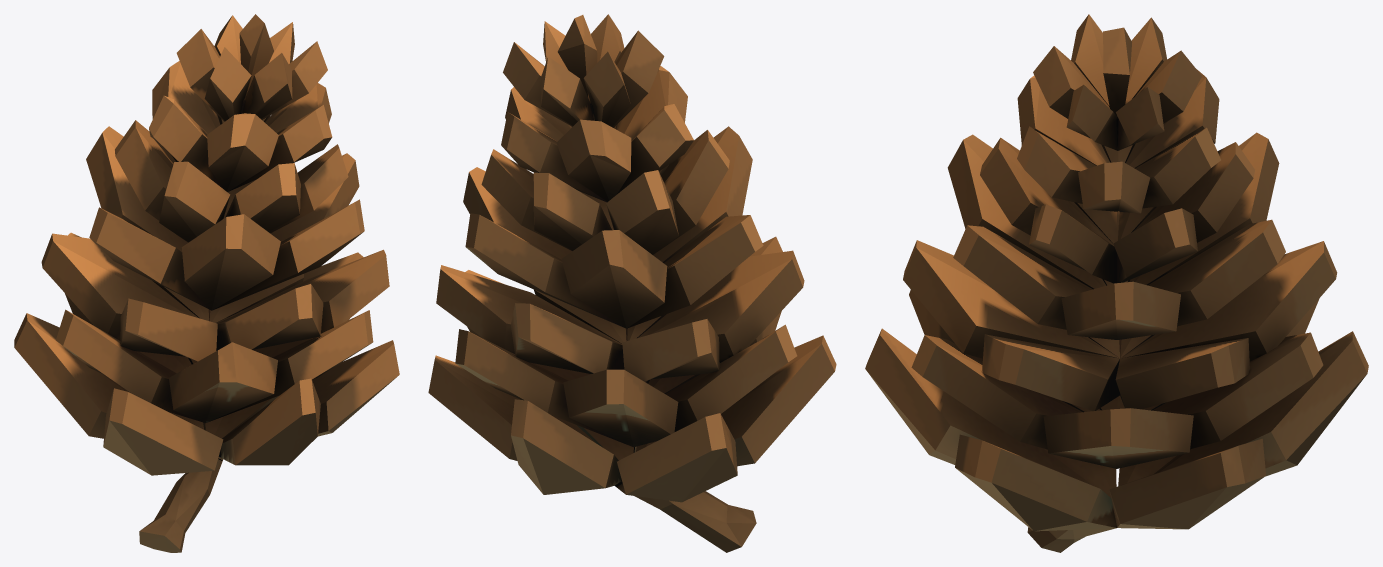
Rendered from PUSHILIN_Pinecone.obj.
The picture shows the model from 3 angles, left to right: view 1: azimuth 30°, elevation 25°; view 2: azimuth 150°, elevation 25°; view 3: azimuth 270°, elevation 25°; orthographic projection. The views are drawn at different scales.
Parts seen in each view (by area): view 1: Pinecone; view 2: Pinecone; view 3: Pinecone.
Boxes of the visible parts, box(x1,y1,x2,y2) form: Pinecone: box(14, 14, 399, 552); Pinecone: box(428, 14, 836, 552); Pinecone: box(865, 14, 1368, 552).
Size of the model in its own units: 1.18 by 1.79 by 1.38.
Materials: 1 (1 with a texture image).
